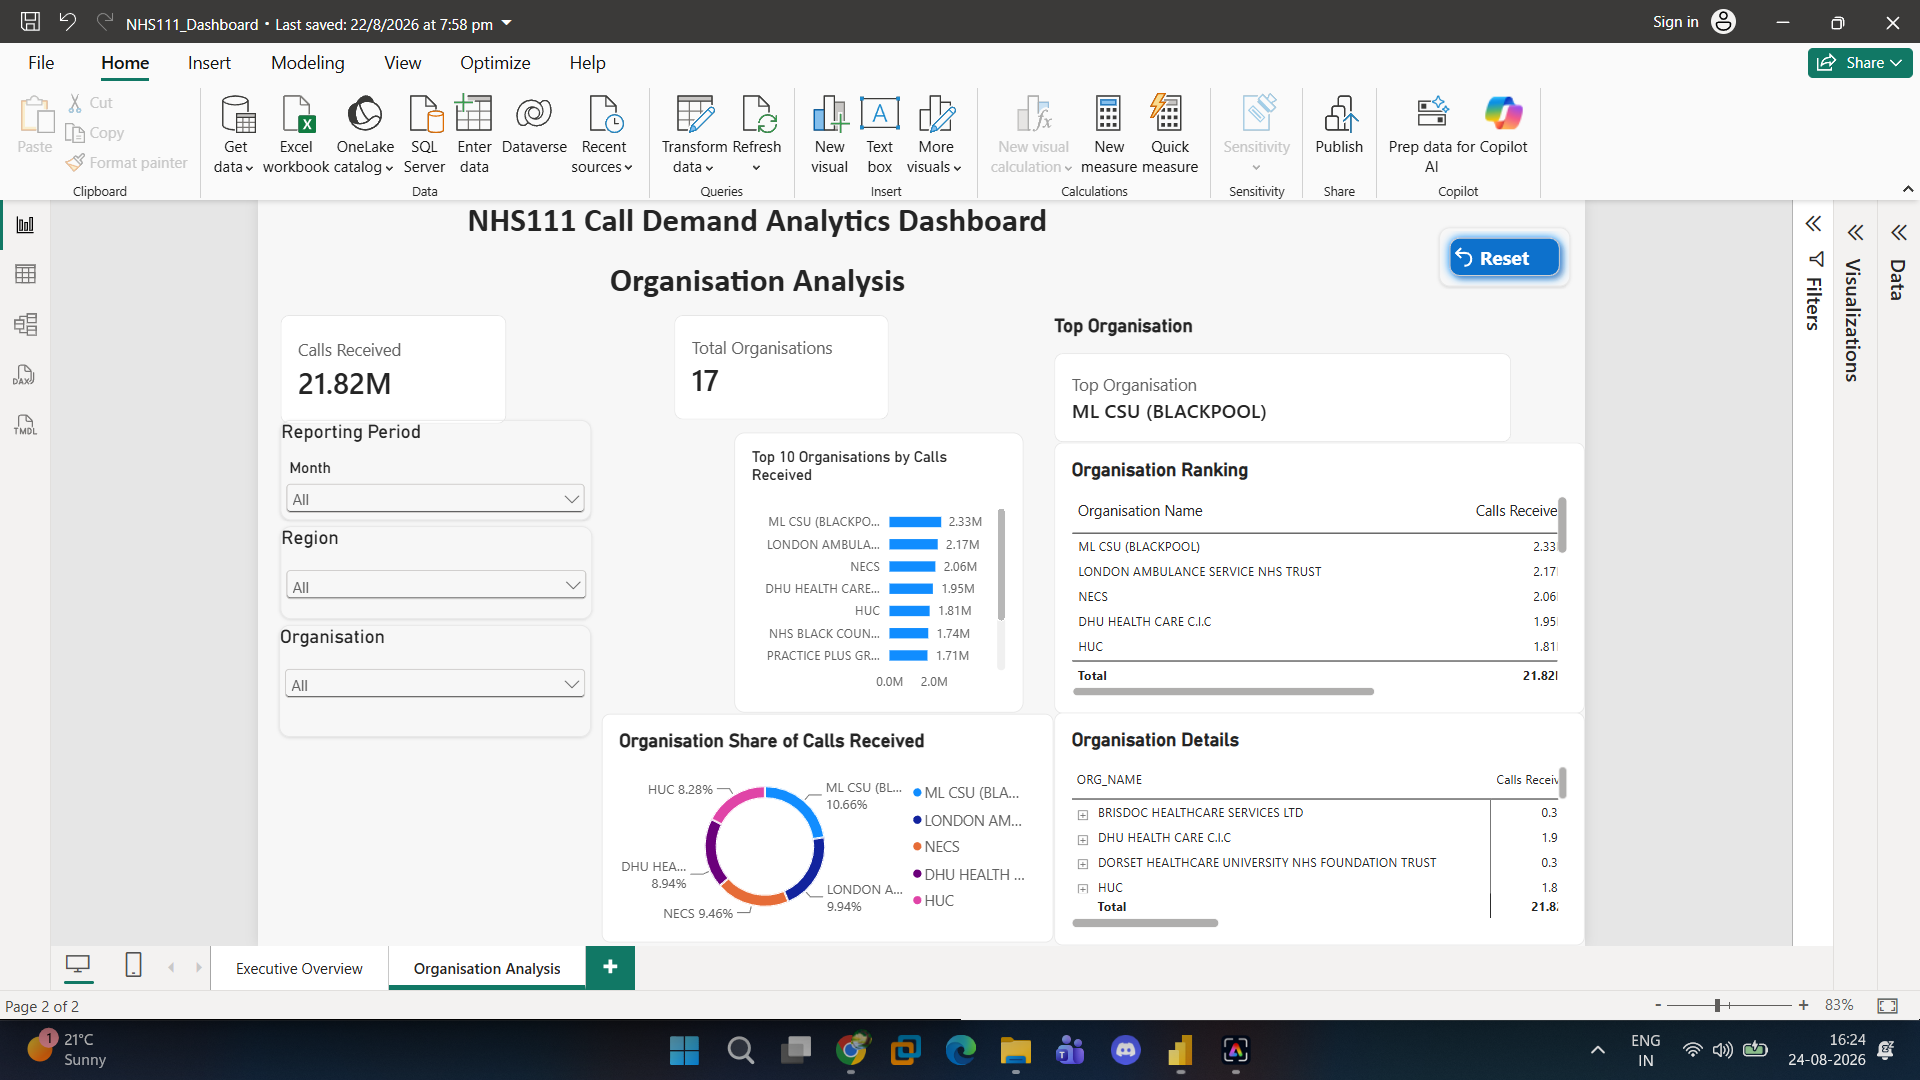

The dashboard page shown, as its layout file describes it:
{"tool":"powerbi","page":{"name":"Organisation Analysis","canvas":[1280,720],"ordinal":1},"visuals":[{"type":"textbox","box":[9.8,0,944.8,110.6],"z":0},{"type":"cardVisual","fields":{"Data":["Fact_IUCADC.Total Recorded Value"]},"box":[22.1,110.6,218.9,105.2],"z":1000},{"type":"cardVisual","fields":{"Data":["Fact_IUCADC.Total Organisations"]},"box":[401.8,110.6,207.9,101.5],"z":2000},{"type":"clusteredBarChart","title":"Top 10 Organisations by Total Demand","fields":{"Category":["vw_OrganisationDemand.ORG_NAME"],"Y":["Sum(vw_OrganisationDemand.TotalDemand)"]},"box":[459.5,224.8,278.9,270.3],"z":3000},{"type":"slicer","title":"Reporting Period","fields":{"Values":["vw_MonthlyDemand.Month"]},"box":[22.1,212.6,299.8,97.1],"z":4000},{"type":"slicer","title":"Region","fields":{"Values":["Fact_IUCADC.REGION_NAME"]},"box":[22.1,314.5,301,89.7],"z":5000},{"type":"slicer","title":"Organisation","fields":{"Values":["Fact_IUCADC.ORG_NAME"]},"box":[20.9,410.4,300.8,107.6],"z":6000},{"type":"actionButton","box":[1139.7,26.6,126.6,57],"z":7000},{"type":"tableEx","title":"Organisation Ranking","fields":{"Values":["Fact_IUCADC.ORG_NAME","Fact_IUCADC.Total Recorded Value","Fact_IUCADC.Organisation Rank","Fact_IUCADC.Organisation Share %"]},"box":[768.2,233.9,512.1,262],"z":8000},{"type":"donutChart","title":"Organisation Share of Total Demand","fields":{"Category":["Fact_IUCADC.ORG_NAME"],"Y":["Fact_IUCADC.Organisation Share %"]},"box":[417.7,518.5,350.2,197.8],"z":9000},{"type":"cardVisual","title":"Top Organisation","fields":{"Data":["Fact_IUCADC.Top Organisation"]},"box":[738.6,111,441.1,122.8],"z":10000},{"type":"pivotTable","title":"Organisation Details","fields":{"Rows":["Fact_IUCADC.ORG_NAME","Fact_IUCADC.REGION_NAME"],"Values":["Fact_IUCADC.Total Recorded Value","Fact_IUCADC.Organisation Share %"]},"box":[768.2,494.4,512.3,224.8],"z":11000}]}

Visuals, with their boxes on the page's 1280x720 design canvas (x1, y1, x2, y2). These are canvas units, not pixel positions in the 1920x1080 screenshot, which may show the page scaled, cropped or inside an application window:
textbox: bbox=[10, 0, 955, 111]
cardVisual - Fact_IUCADC.Total Recorded Value: bbox=[22, 111, 241, 216]
cardVisual - Fact_IUCADC.Total Organisations: bbox=[402, 111, 610, 212]
"Top 10 Organisations by Total Demand" clusteredBarChart: bbox=[460, 225, 738, 495]
"Reporting Period" slicer: bbox=[22, 213, 322, 310]
"Region" slicer: bbox=[22, 314, 323, 404]
"Organisation" slicer: bbox=[21, 410, 322, 518]
actionButton: bbox=[1140, 27, 1266, 84]
"Organisation Ranking" tableEx: bbox=[768, 234, 1280, 496]
"Organisation Share of Total Demand" donutChart: bbox=[418, 518, 768, 716]
"Top Organisation" cardVisual: bbox=[739, 111, 1180, 234]
"Organisation Details" pivotTable: bbox=[768, 494, 1280, 719]
